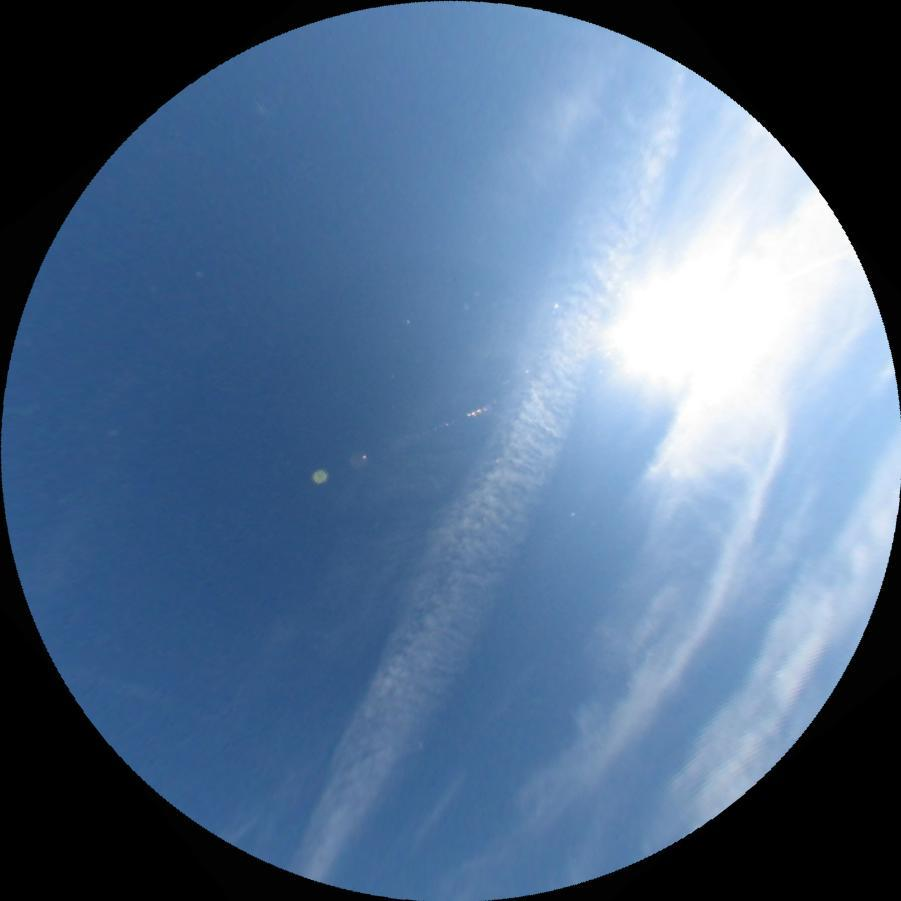contrail veryold: (281, 44, 728, 901)
sun: (605, 245, 768, 404)
